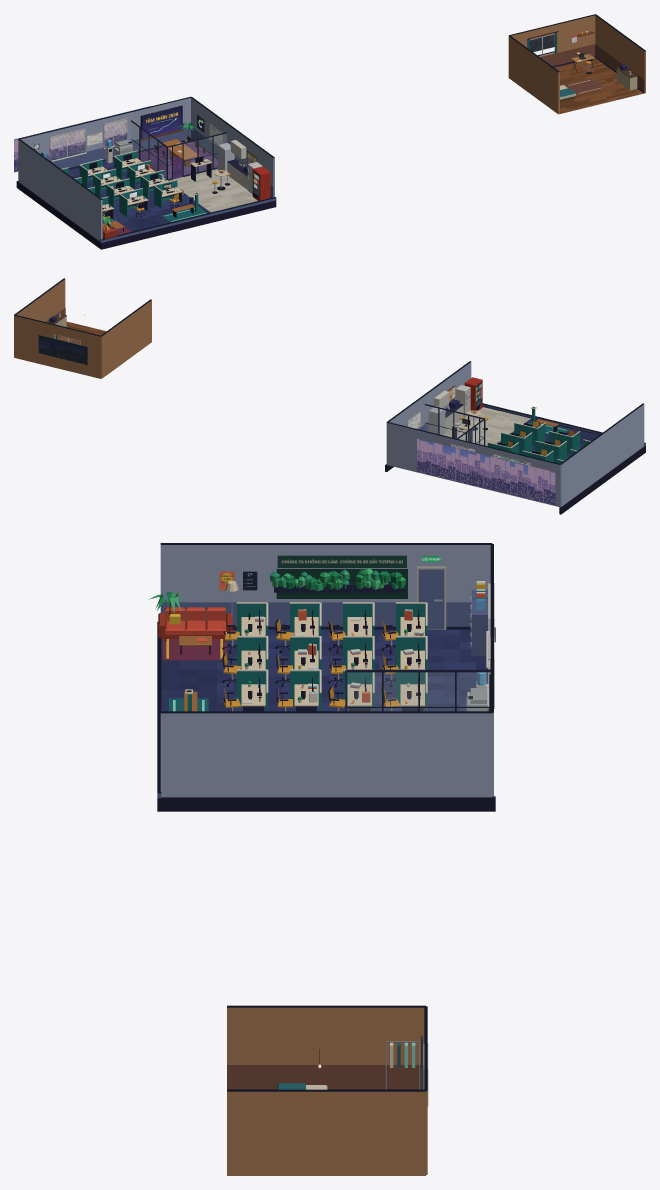
The model's file is office.glb.
3 renders of one model, top to bottom at view 1: azimuth 30°, elevation 25°; view 2: azimuth 150°, elevation 25°; view 3: azimuth 270°, elevation 25°, orthographic. The views are drawn at different scales.
Visible parts, largest first — view 1: STATIC, GLOW, GLASS, DYN_coffee; view 2: STATIC, GLOW, GLASS, DYN_coffee; view 3: STATIC, GLASS.
Boxes of the visible parts, x1,y1,x2,y2 form: STATIC: (16, 14, 645, 249); GLOW: (14, 34, 579, 196); GLASS: (131, 122, 226, 178); DYN_coffee: (218, 143, 234, 171); STATIC: (14, 278, 645, 514); GLOW: (38, 314, 555, 504); GLASS: (425, 405, 483, 451); DYN_coffee: (428, 406, 445, 435); STATIC: (148, 543, 495, 1175); GLASS: (347, 672, 490, 710).
Size of the model in its own units: 39.15 by 3.27 by 10.98.
4 materials, 2 textured.
